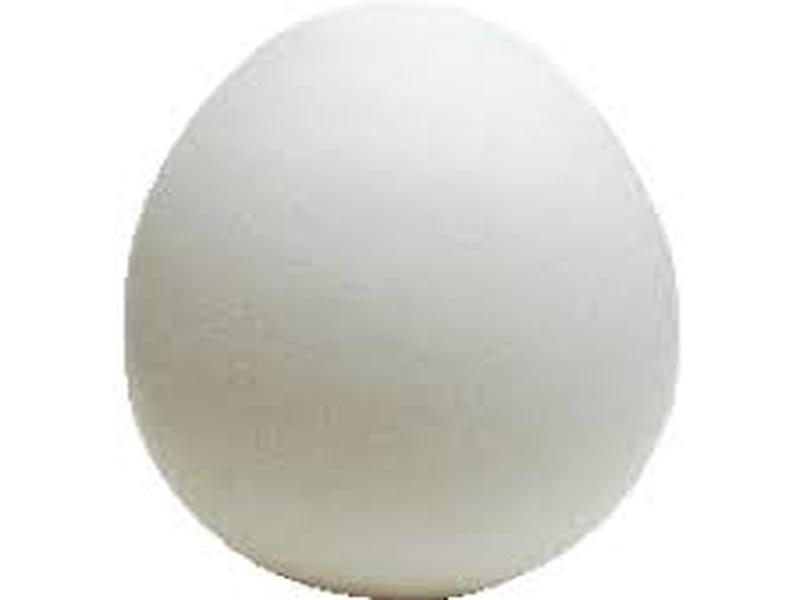egg: (108, 5, 709, 600)
